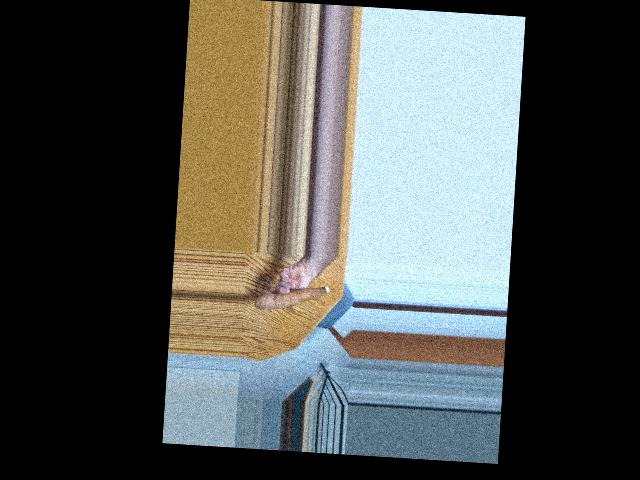sweet_potato: (255, 277, 328, 317)
